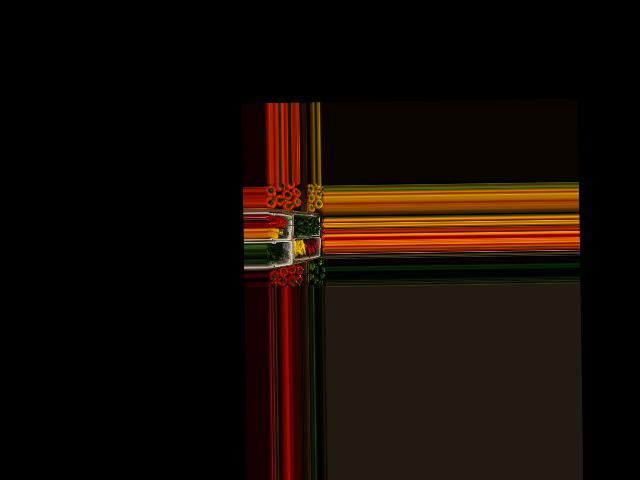bell_pepper: (306, 271, 317, 281)
